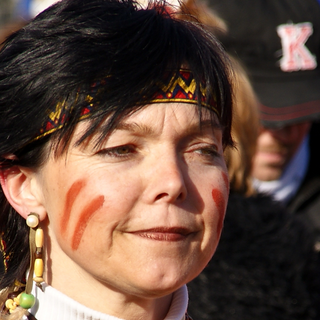eye: (95, 139, 145, 162)
